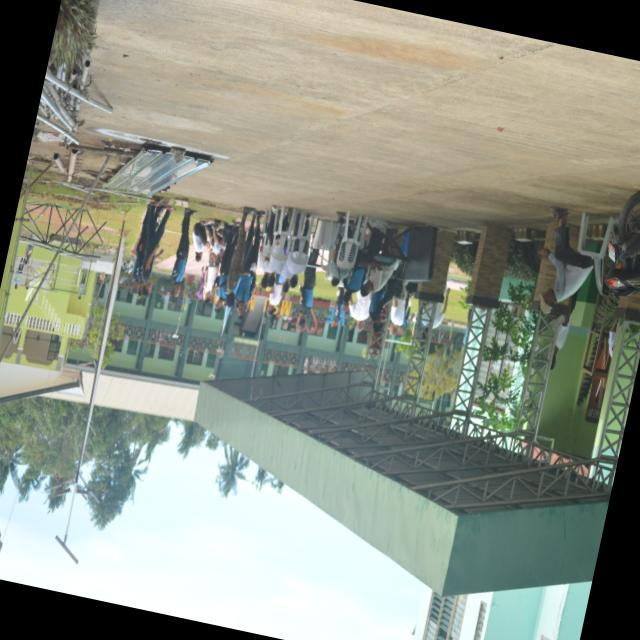person: (540, 206, 593, 312), (142, 205, 176, 297), (235, 211, 263, 316), (361, 219, 400, 294), (226, 206, 255, 306), (171, 207, 196, 296), (215, 220, 238, 312), (551, 291, 578, 369), (297, 248, 319, 327), (330, 211, 351, 286), (370, 286, 392, 331), (286, 239, 306, 287), (349, 290, 372, 330), (193, 219, 210, 261), (389, 297, 407, 335), (268, 274, 284, 315), (204, 262, 219, 303), (331, 287, 345, 329), (14, 257, 25, 288), (78, 269, 88, 299)
